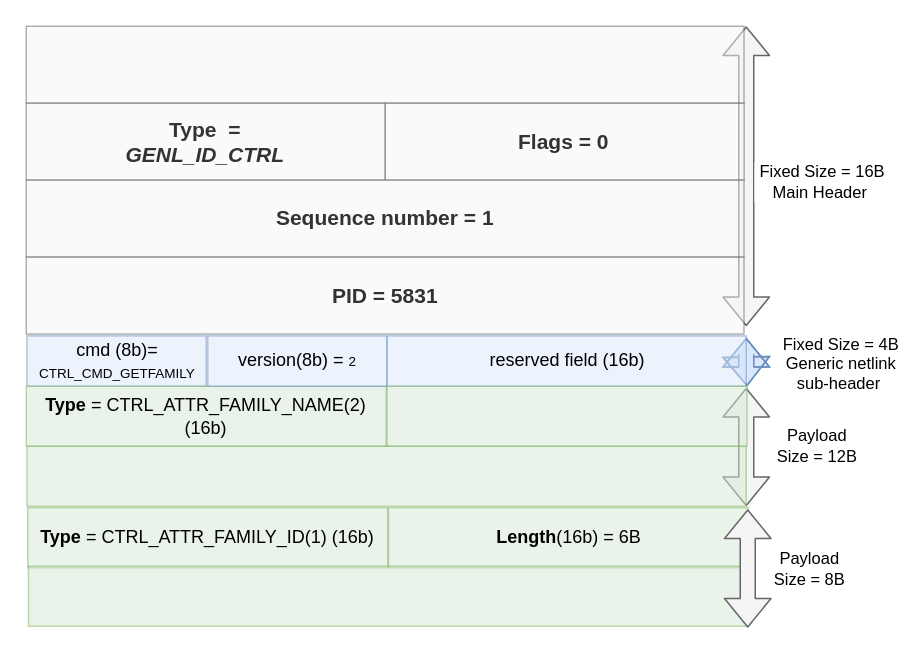
This 924x654 diagram has some shape labels left out. The centre of each missing label's shape, as x and y in pixels:
"Length (16b) = 10B" goes at point 566,415.
"Length = 136 Bytes" goes at point 384,64.
"Value = 123 (+2B Padding to align to 32b)" goes at point 387,595.
"Value = test1\0 (+2B Padding to align to 32b)" goes at point 386,475.
